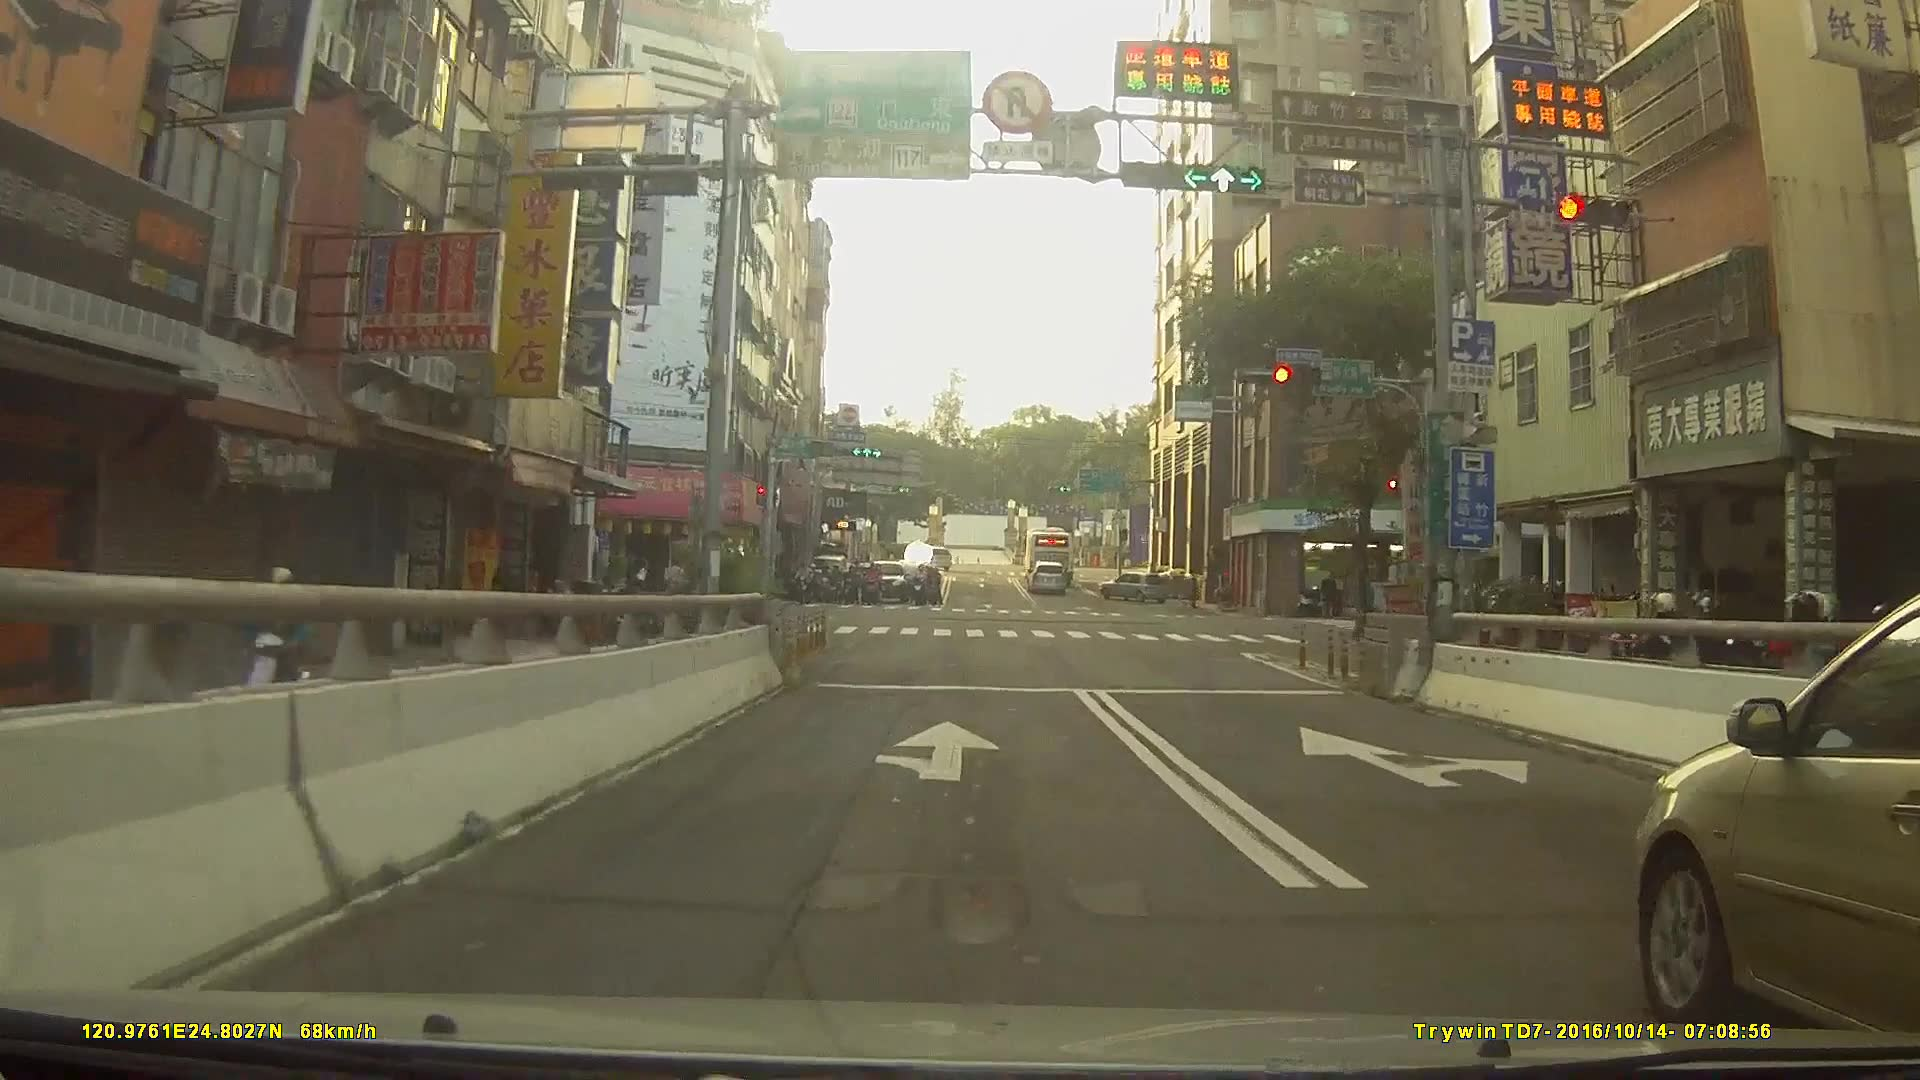pedestrian: (1319, 576, 1340, 621)
rider: (241, 567, 312, 732)
vehicle: (1634, 591, 1920, 1048), (1099, 568, 1173, 602), (1023, 527, 1075, 576), (862, 560, 909, 602), (1027, 559, 1067, 595), (902, 539, 951, 566)
